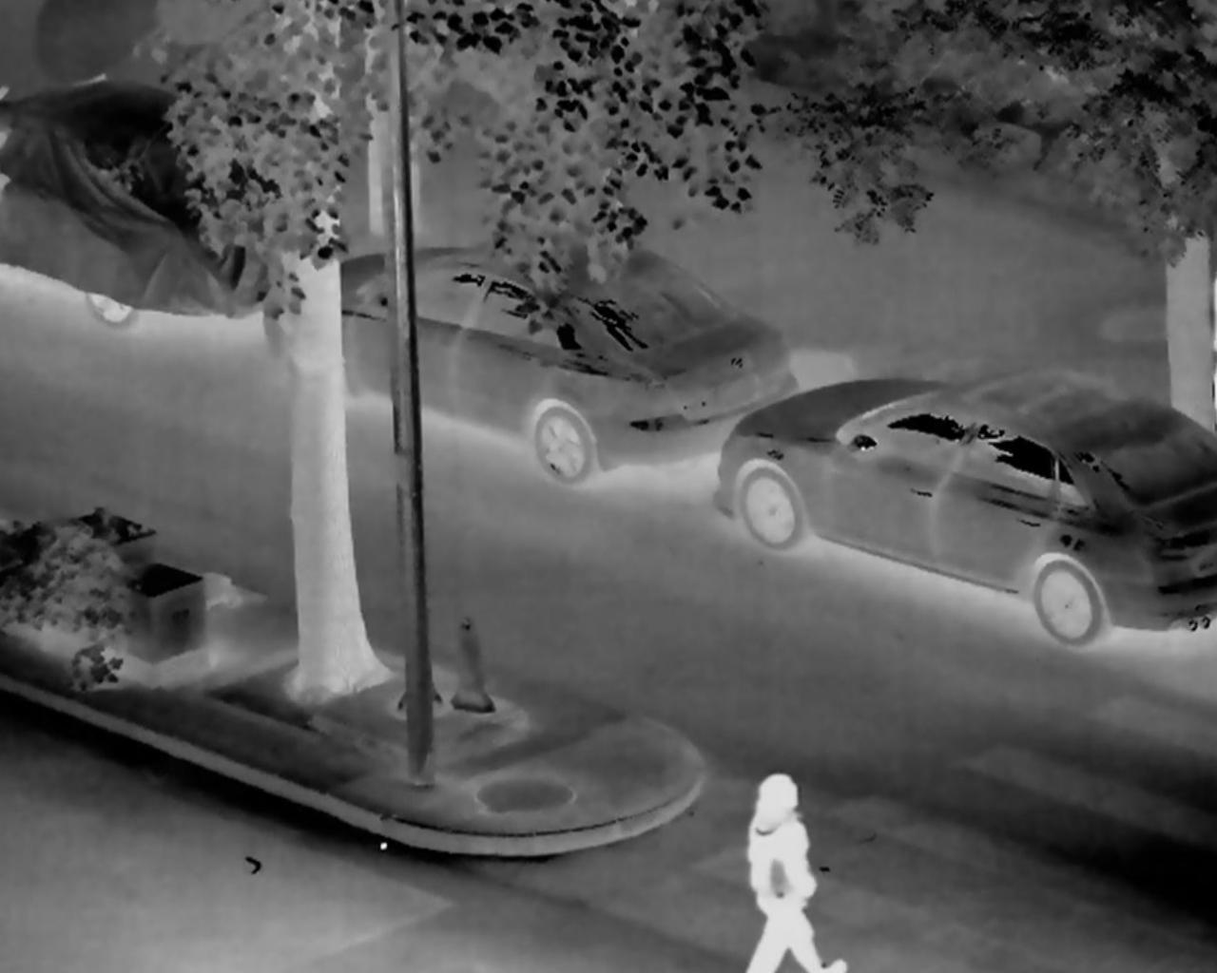person: (730, 771, 862, 973)
